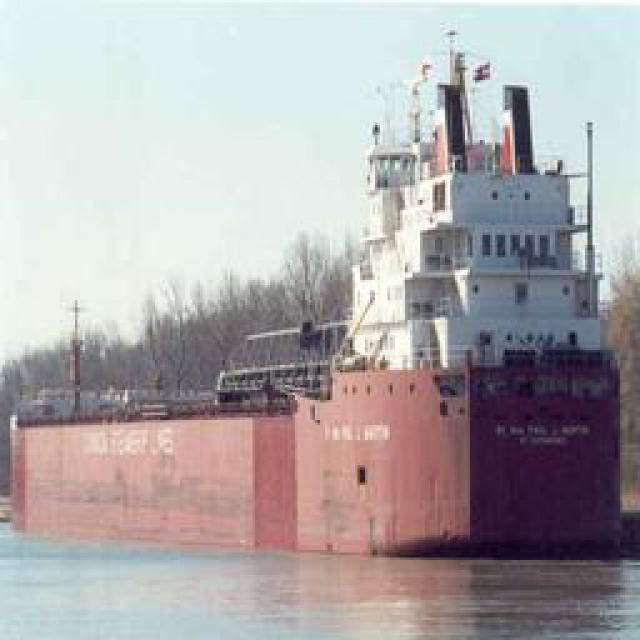Ship: (7, 32, 626, 556)
